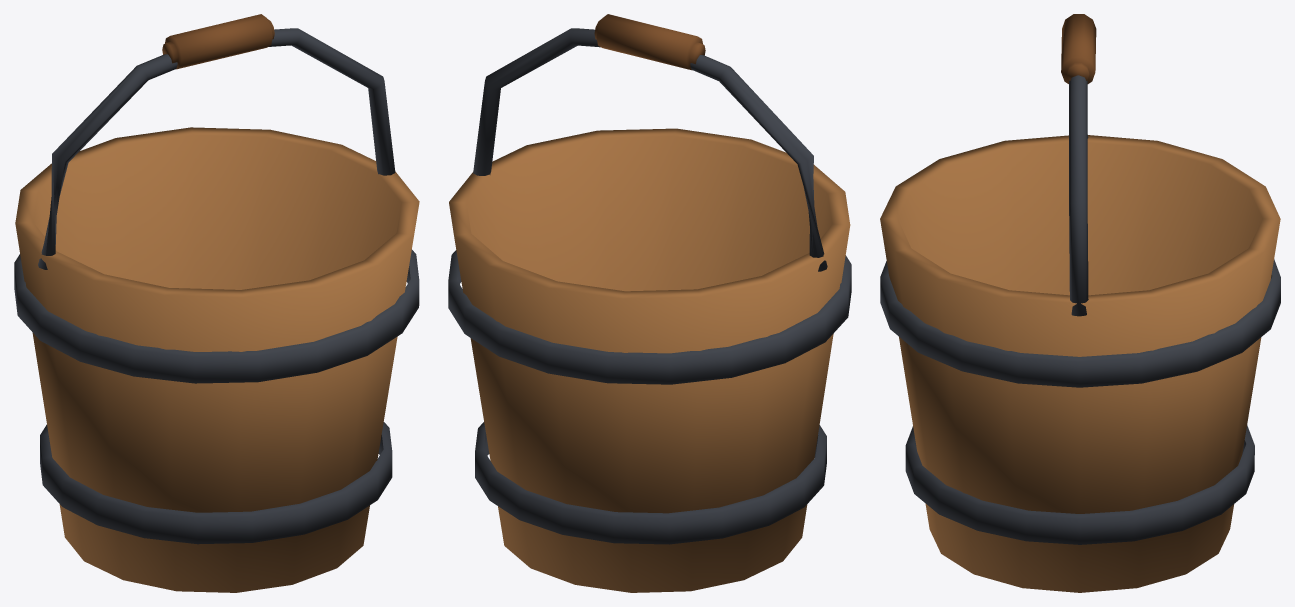
File: prop_bucket.glb
3 renders of one model, left to right at view 1: azimuth 30°, elevation 25°; view 2: azimuth 150°, elevation 25°; view 3: azimuth 270°, elevation 25°, orthographic.
Parts seen in each view (by area): view 1: prop_bucket; view 2: prop_bucket; view 3: prop_bucket.
Boxes of the visible parts, bbox=[...] form: prop_bucket: bbox=[14, 14, 419, 592]; prop_bucket: bbox=[448, 14, 851, 592]; prop_bucket: bbox=[880, 14, 1280, 592].
Bounding box in the file's own units: 0.5637 × 0.76 × 0.5583.
